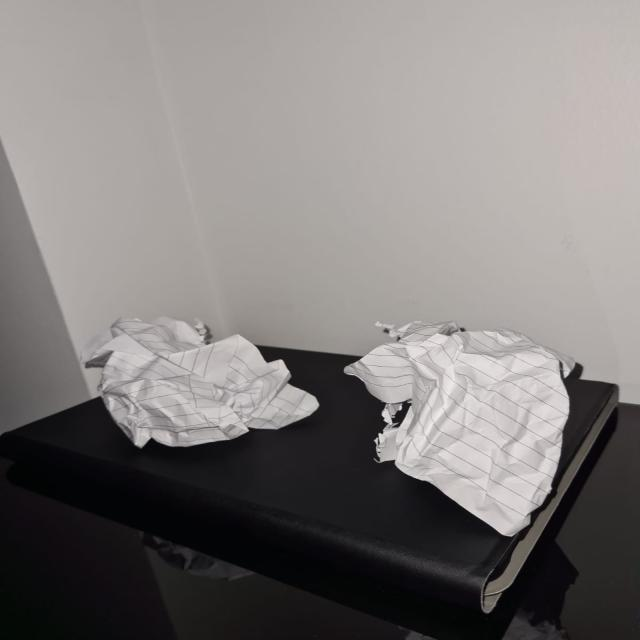Paper: (352, 329, 573, 534), (104, 317, 323, 445)
